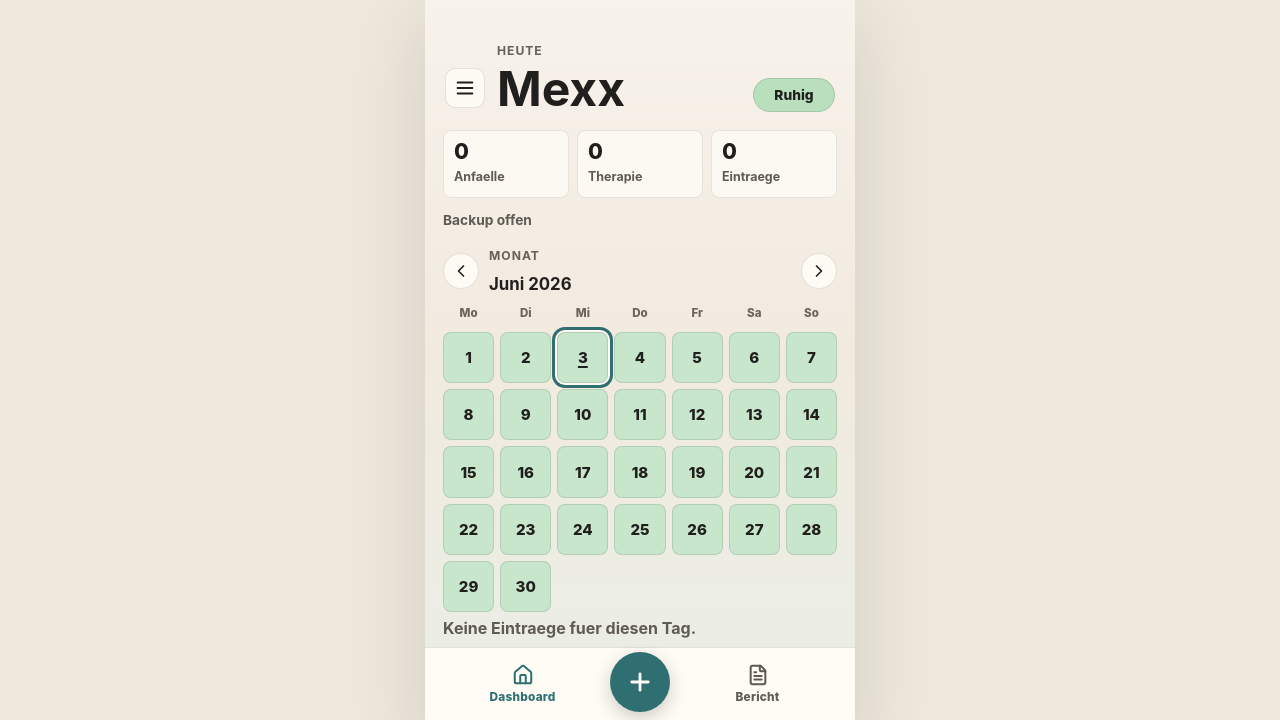
Test: App capture flow › opens observation capture from the secondary dashboard action
Expected: the heading "Mexx" is shown, [497, 65, 625, 112]
Click the button named "Erfassen oeffnen": (640, 682) [610, 652, 670, 712]
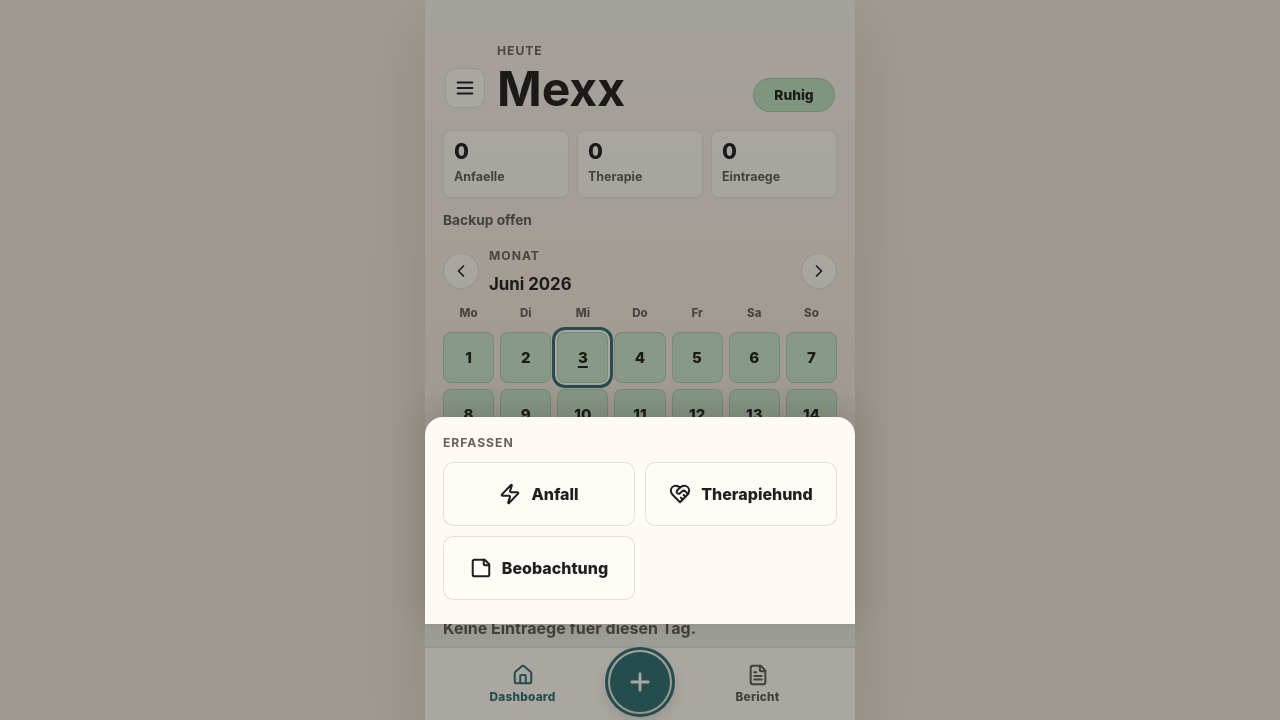
Click the button "Beobachtung": (539, 568) [443, 536, 635, 600]
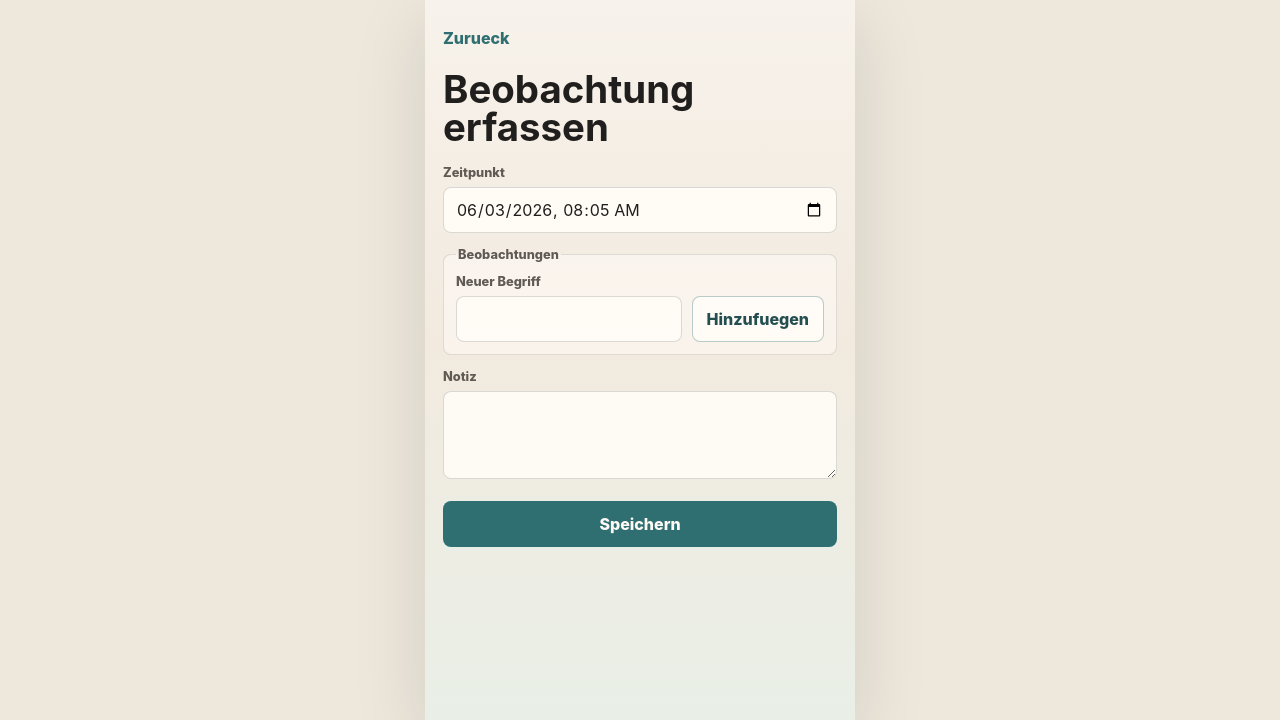
Result: the heading "Beobachtung erfassen" is shown at [443, 66, 694, 150]
